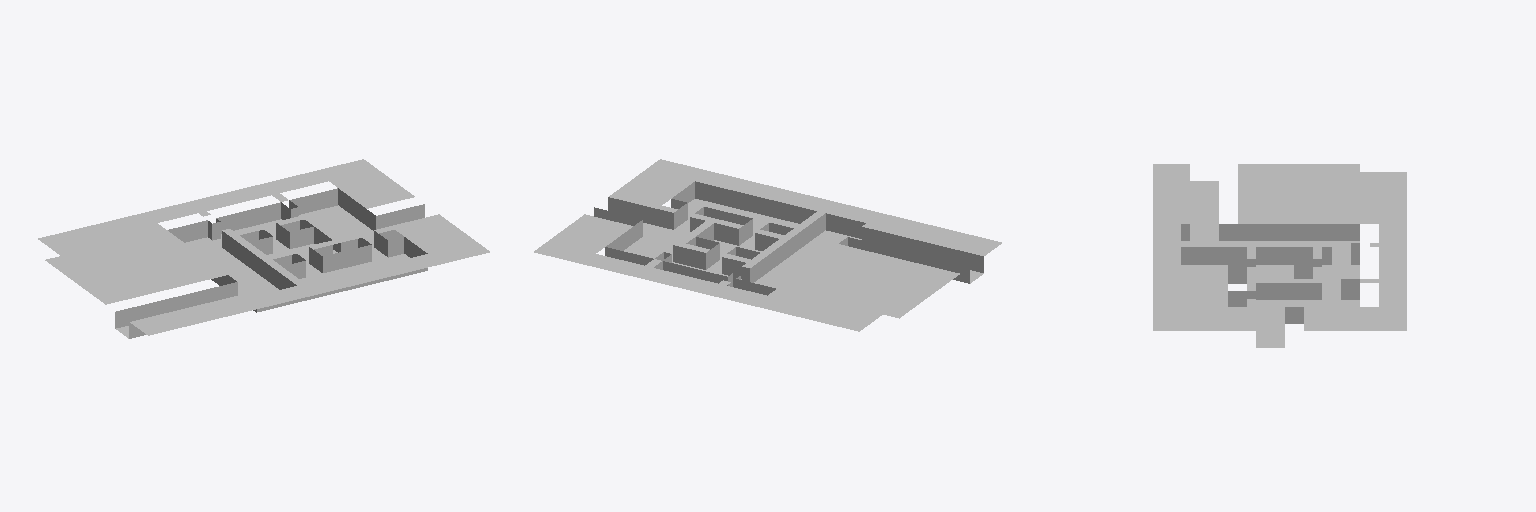
File: lvl_shipSpiderRoom.obj
The picture shows the model from 3 angles: view 1: azimuth 30°, elevation 25°; view 2: azimuth 150°, elevation 25°; view 3: azimuth 270°, elevation 25°; orthographic projection.
Visible parts, largest first — view 1: Default; view 2: Default; view 3: Default.
Part boxes in pixels (left/top/right/bottom): Default: left=38, top=159, right=489, bottom=338; Default: left=534, top=159, right=1001, bottom=331; Default: left=1153, top=164, right=1406, bottom=347.
Size of the model in its own units: 42 by 2 by 27.